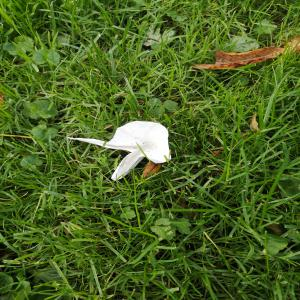Trash: (67, 120, 176, 184)
